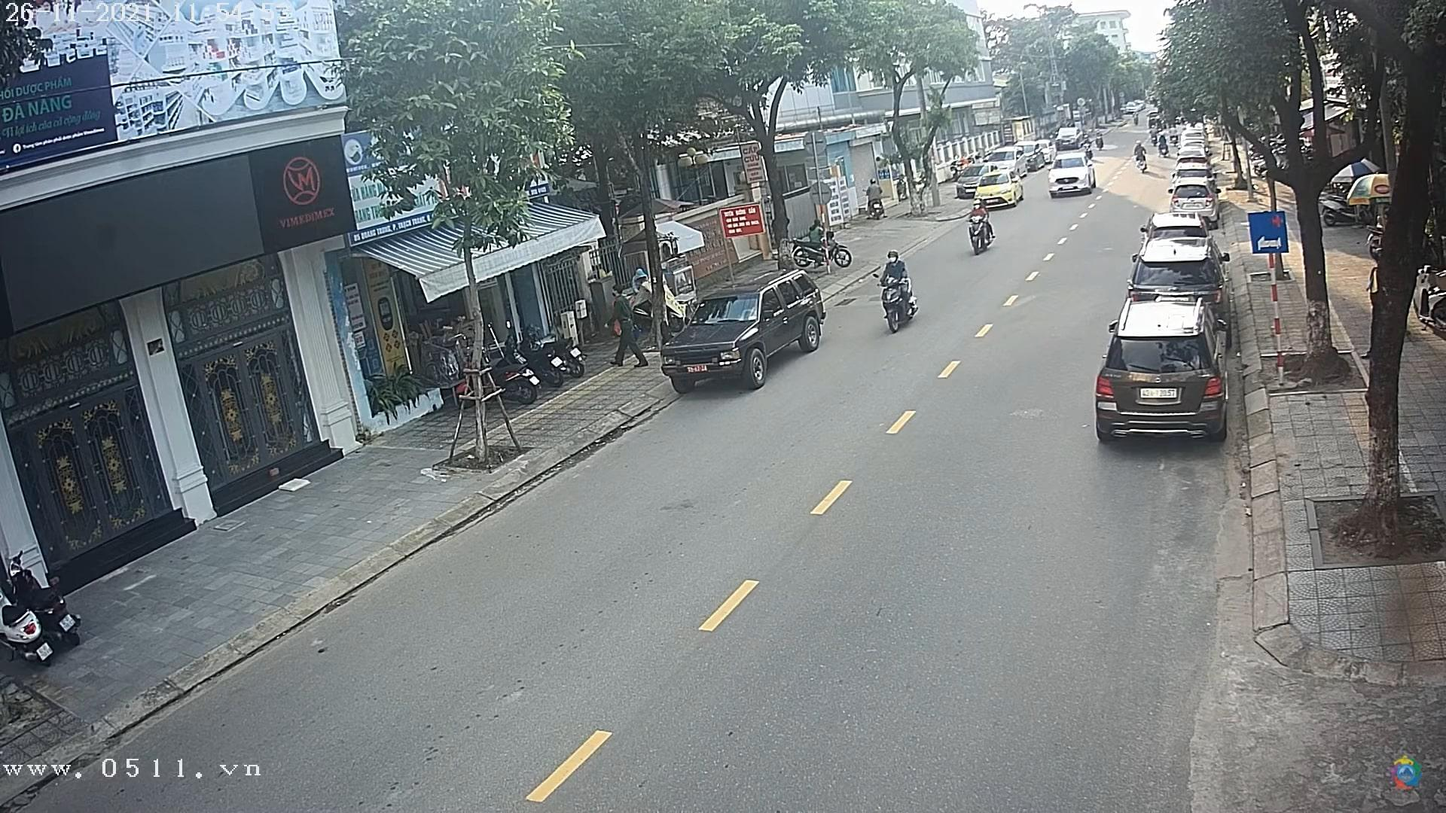car: (657, 260, 826, 396), (1095, 296, 1227, 443), (1128, 240, 1227, 303), (1048, 157, 1098, 198)
motorbike: (880, 277, 921, 335), (966, 217, 996, 258)
